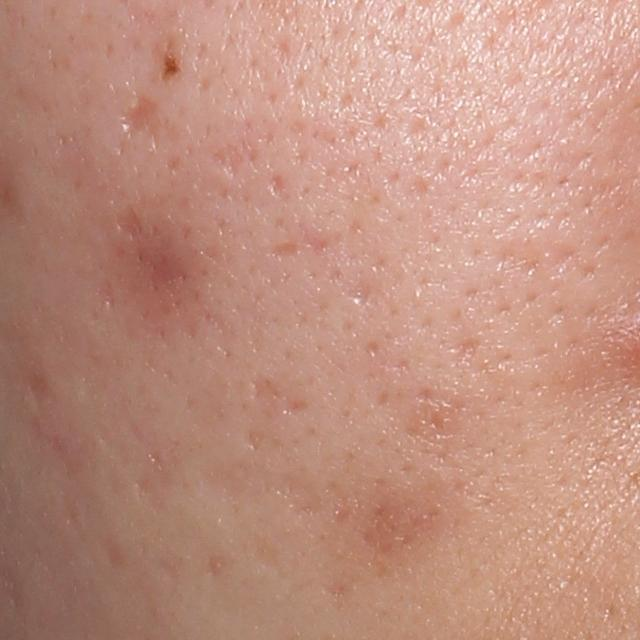atrophic_scar: (252, 537, 295, 588), (212, 141, 249, 180), (28, 374, 49, 405), (118, 208, 142, 234), (242, 427, 265, 453), (351, 281, 370, 304), (271, 174, 284, 198)
